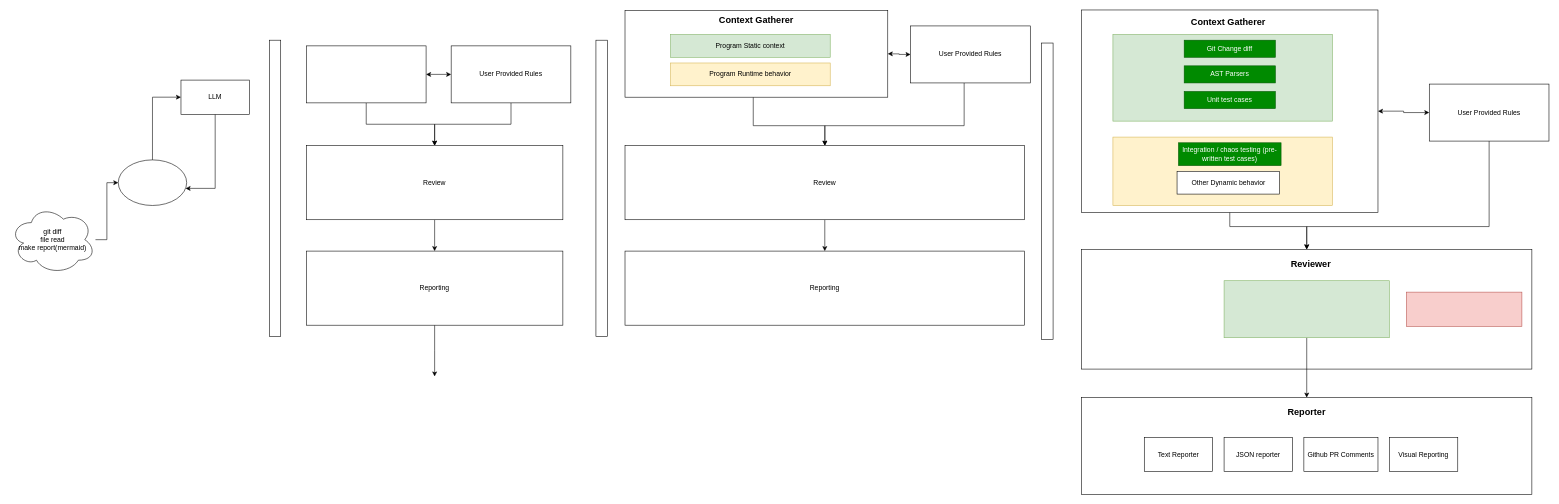
Image size: 1559x504. Some labels were removed from this diagram. The box of each missing label's shape, as (x1, y1, x2, y2) in pixels:
Context Gathering: (306, 45, 426, 103)
LLM CALL: (1224, 280, 1389, 338)
Rule Matching: (1406, 292, 1522, 326)
tools: (118, 159, 187, 205)
